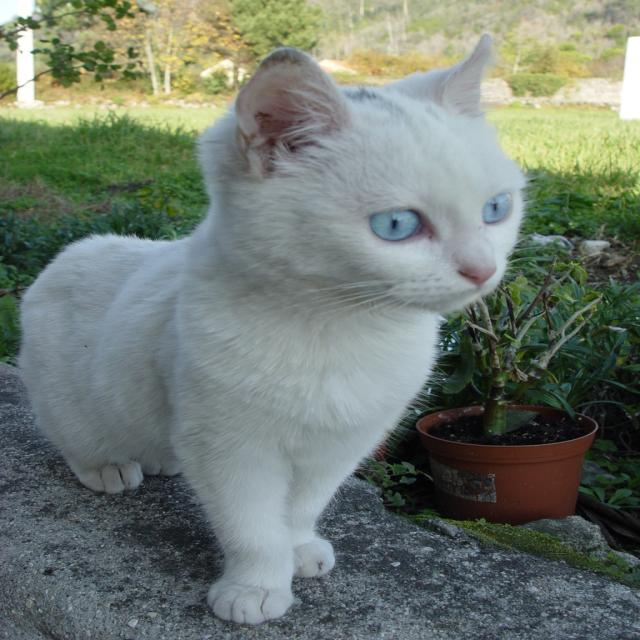Cat: (6, 32, 582, 624)
